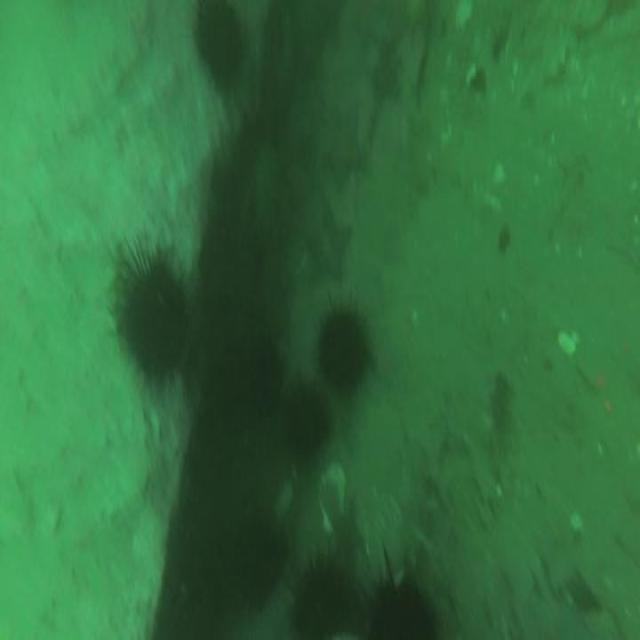echinus: (122, 264, 188, 379), (229, 340, 281, 428), (370, 572, 434, 640), (194, 2, 244, 84), (237, 521, 283, 610), (318, 306, 364, 392), (296, 565, 345, 640), (284, 382, 326, 462)
starfish: (302, 206, 352, 284), (326, 102, 364, 182), (367, 44, 403, 104)
